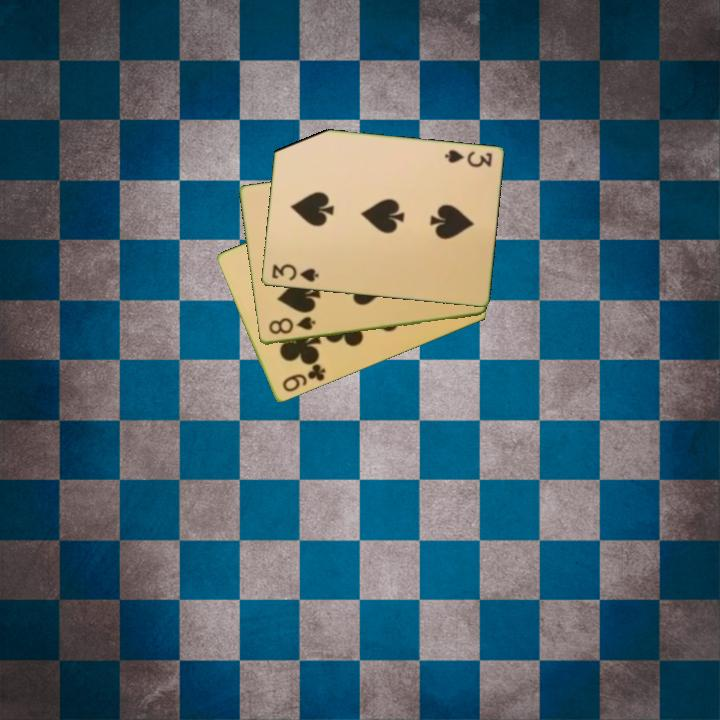3s: (441, 146, 495, 170), (268, 261, 321, 285)
8s: (265, 313, 318, 337)
9c: (279, 360, 329, 395)
